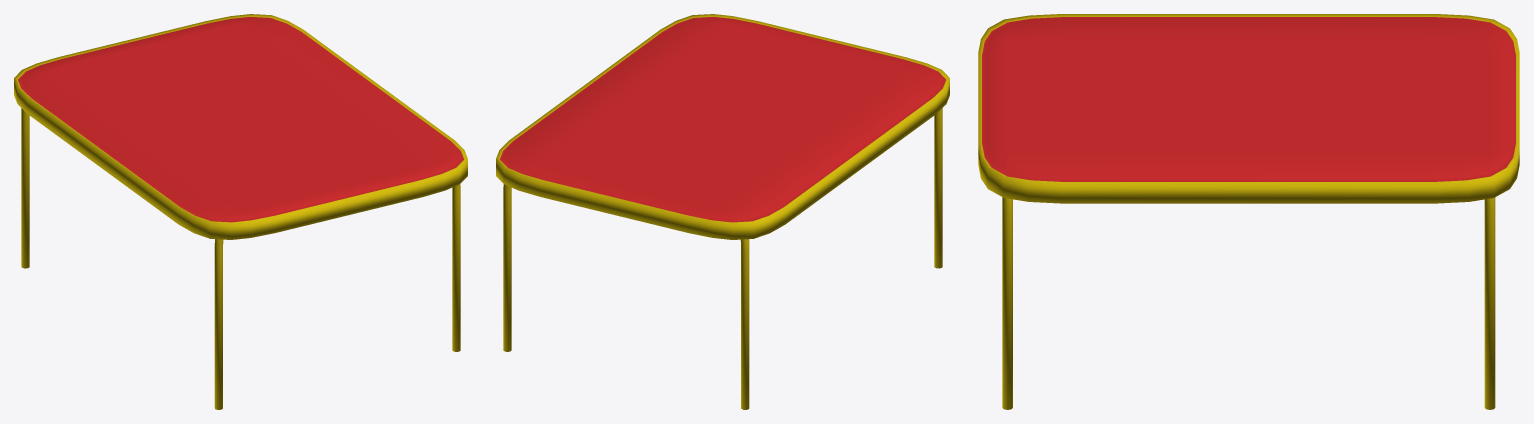
Rendered from SNWP_MOD_BUN_Table.fbx.
The picture shows the model from 3 angles, left to right: view 1: azimuth 30°, elevation 25°; view 2: azimuth 150°, elevation 25°; view 3: azimuth 270°, elevation 25°; orthographic projection. The views are drawn at different scales.
Visible parts, largest first — view 1: SNWP_MOD_Bunker_table; view 2: SNWP_MOD_Bunker_table; view 3: SNWP_MOD_Bunker_table.
Boxes of the visible parts, x1,y1,x2,y2 form: SNWP_MOD_Bunker_table: (14,14,467,409); SNWP_MOD_Bunker_table: (496,14,949,409); SNWP_MOD_Bunker_table: (978,14,1519,409).
Size of the model in its own units: 1.23 by 0.8079 by 1.67.
